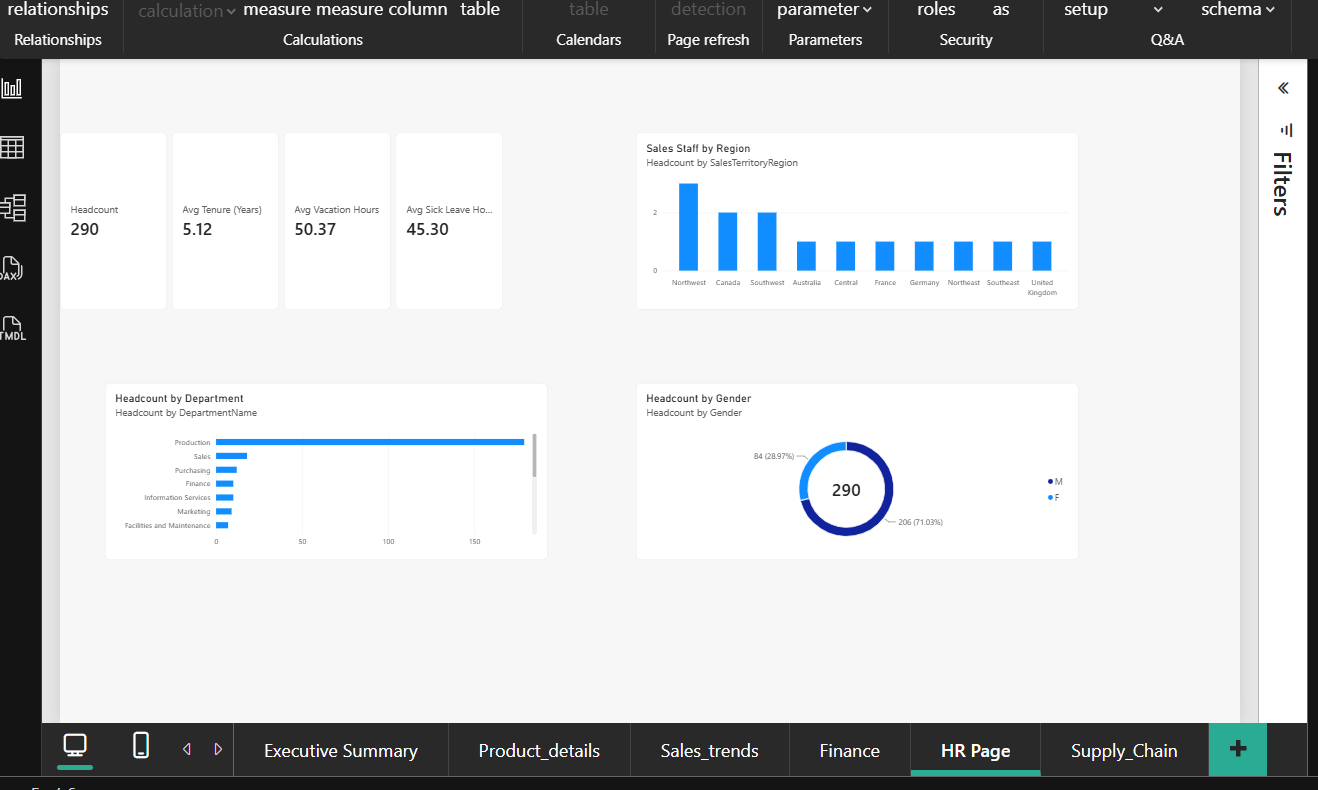

The dashboard page shown, as its layout file describes it:
{"tool":"powerbi","page":{"name":"HR Page","canvas":[1920,1080],"ordinal":4},"visuals":[{"type":"cardVisual","fields":{"Data":["Employee.Headcount","Employee.Avg Tenure (Years)","Employee.Avg Vacation Hours","Employee.Avg Sick Leave Hours"]},"box":[0,120,720,288],"z":0},{"type":"clusteredBarChart","title":"Headcount by Department","fields":{"Category":["Employee.DepartmentName"],"Y":["Employee.Headcount"]},"box":[72,528,720,288],"z":1000},{"type":"clusteredColumnChart","title":"Sales Staff by Region","fields":{"Category":["Territory.SalesTerritoryRegion"],"Y":["Employee.Headcount"]},"box":[936,120,720,288],"z":2000},{"type":"donutChart","title":"Headcount by Gender","fields":{"Category":["Employee.Gender"],"Y":["Employee.Headcount"]},"box":[936,528,720,288],"z":3000}]}

Visuals, with their boxes on the page's 1920x1080 design canvas (x1, y1, x2, y2). These are canvas units, not pixel positions in the 1318x790 screenshot, which may show the page scaled, cropped or inside an application window:
cardVisual - Employee.Headcount x Employee.Avg Tenure (Years): BBox(0, 120, 720, 408)
"Headcount by Department" clusteredBarChart: BBox(72, 528, 792, 816)
"Sales Staff by Region" clusteredColumnChart: BBox(936, 120, 1656, 408)
"Headcount by Gender" donutChart: BBox(936, 528, 1656, 816)
